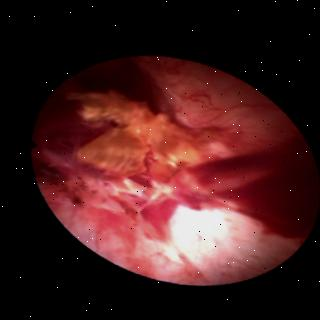stone: (65, 88, 214, 173)
tissue: (34, 58, 312, 279)
